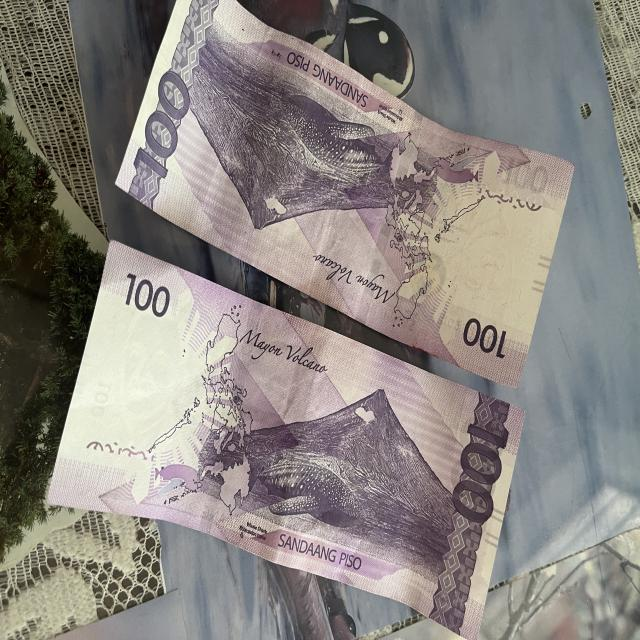100_whale: (268, 68, 396, 192), (234, 436, 363, 543)
100_whale_watermark: (144, 451, 208, 515), (422, 141, 479, 196)
value_watermark: (87, 369, 116, 428)
watermark: (428, 174, 534, 342)
